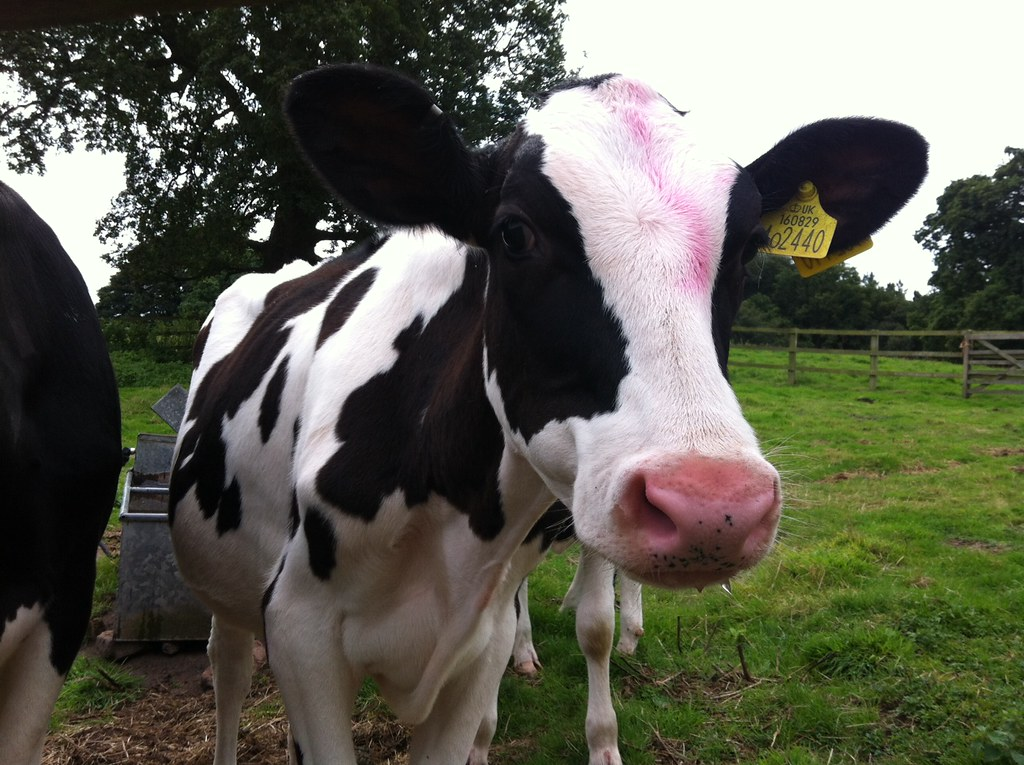cow: (180, 49, 868, 765)
